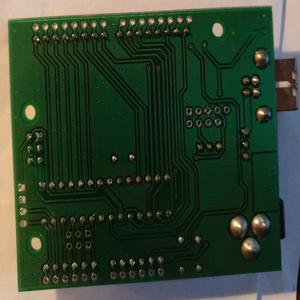duino: (6, 1, 294, 286)
